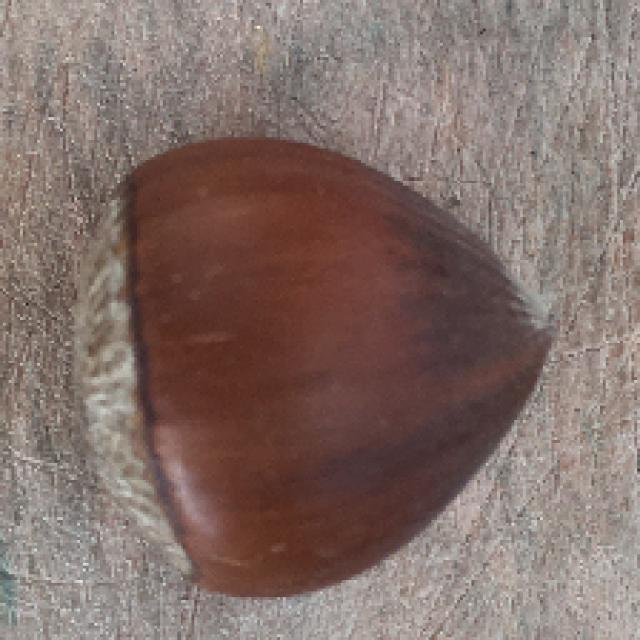qualityHazelnut: (66, 141, 553, 601)
